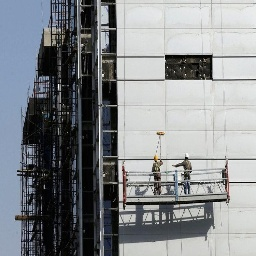person: (177, 150, 194, 195), (151, 153, 164, 196)
